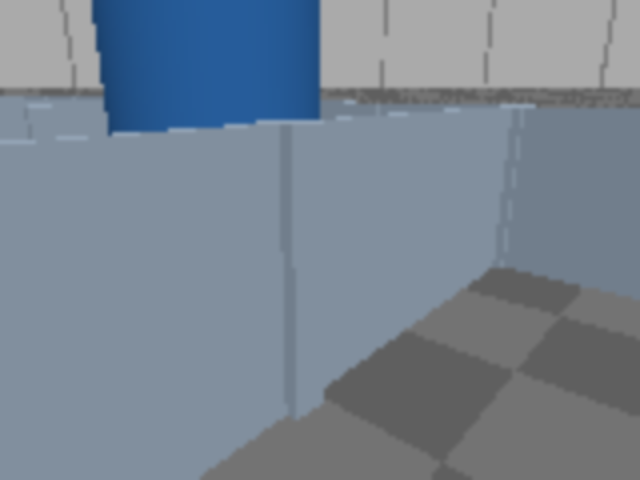person: (0, 0, 296, 327)
